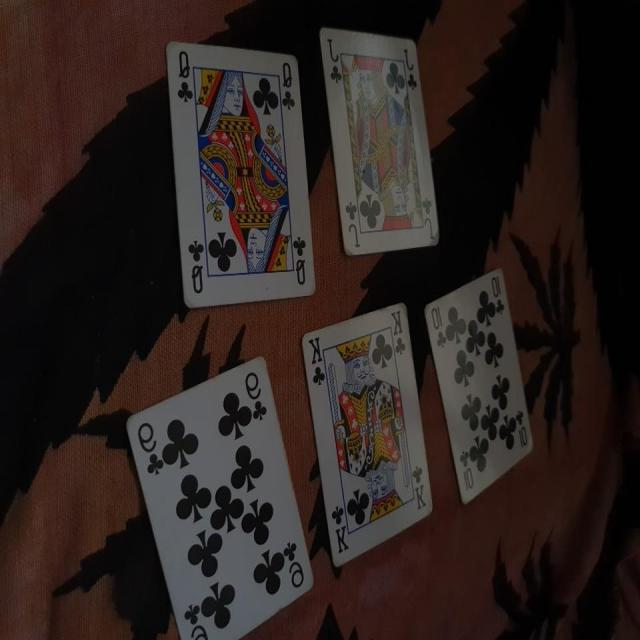10 of clubs: (422, 264, 536, 505)
9 of clubs: (123, 355, 317, 640)
jack of clubs: (318, 25, 440, 262)
king of clubs: (303, 299, 437, 569)
queen of clubs: (165, 39, 318, 310)
